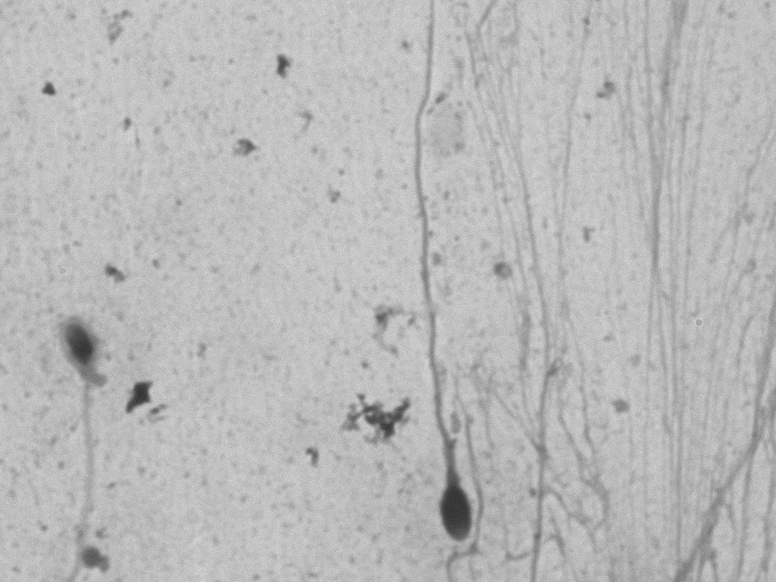Abnormal: (31, 288, 142, 529)
Normal: (374, 26, 483, 549)
